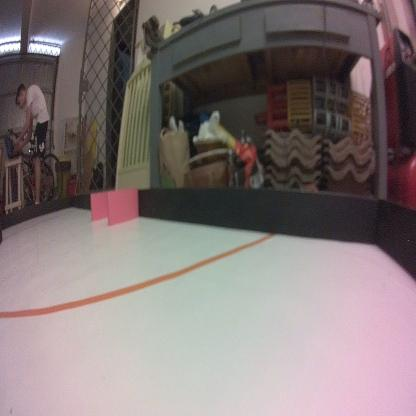magenta: (106, 188, 139, 224), (89, 190, 116, 218)
